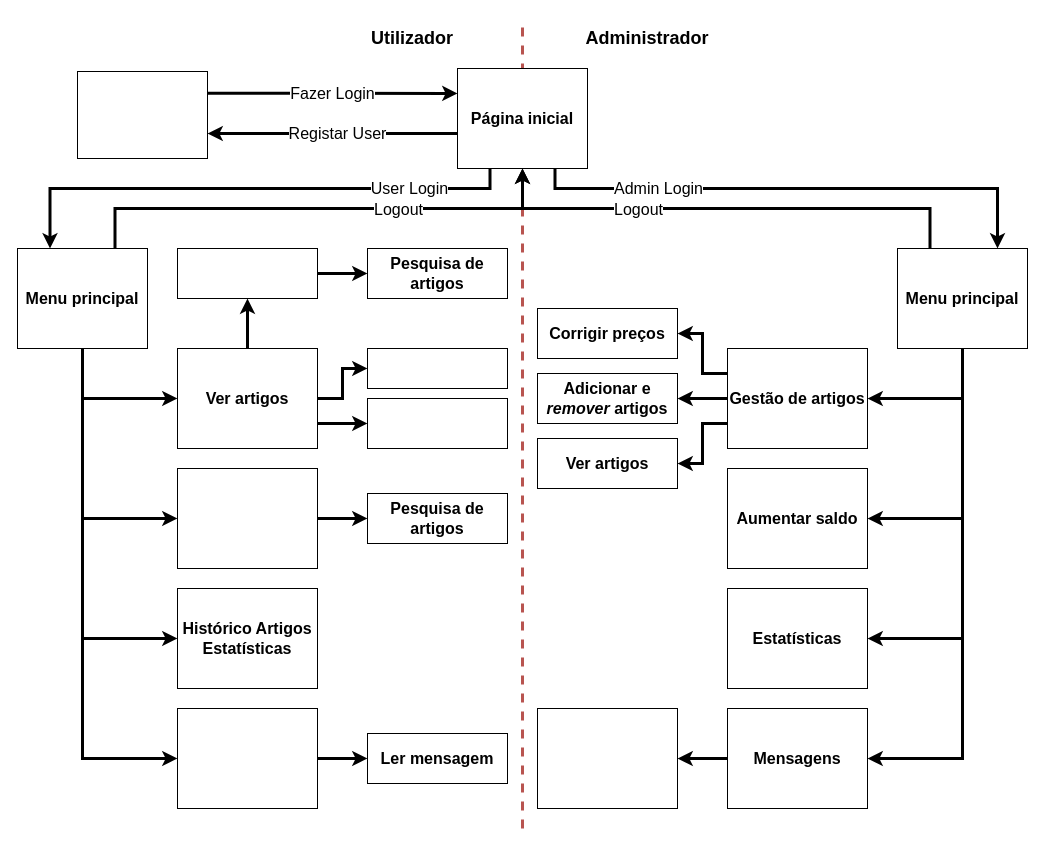
Image size: 1045x848. Some labels were removed from this diagram. Here are the shapes that lost their labels. From the top down, the centre of each, then its label:
point (142, 114): Registo
point (247, 273): Ver artigos disponíveis
point (437, 368): Alugar artigo
point (437, 423): Consultar detalhes
point (247, 518): Artigos atuais
point (247, 758): Caixa de Entrada
point (607, 758): Enviar mensagens a um ou mais utilizadores
